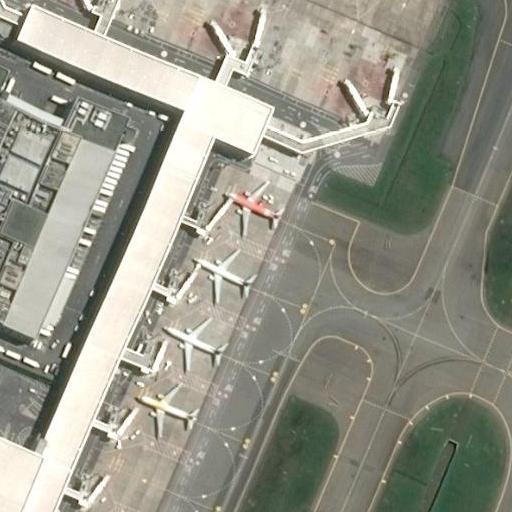Aircraft: (160, 312, 224, 371), (137, 382, 200, 436), (195, 245, 255, 301), (223, 178, 282, 234)
